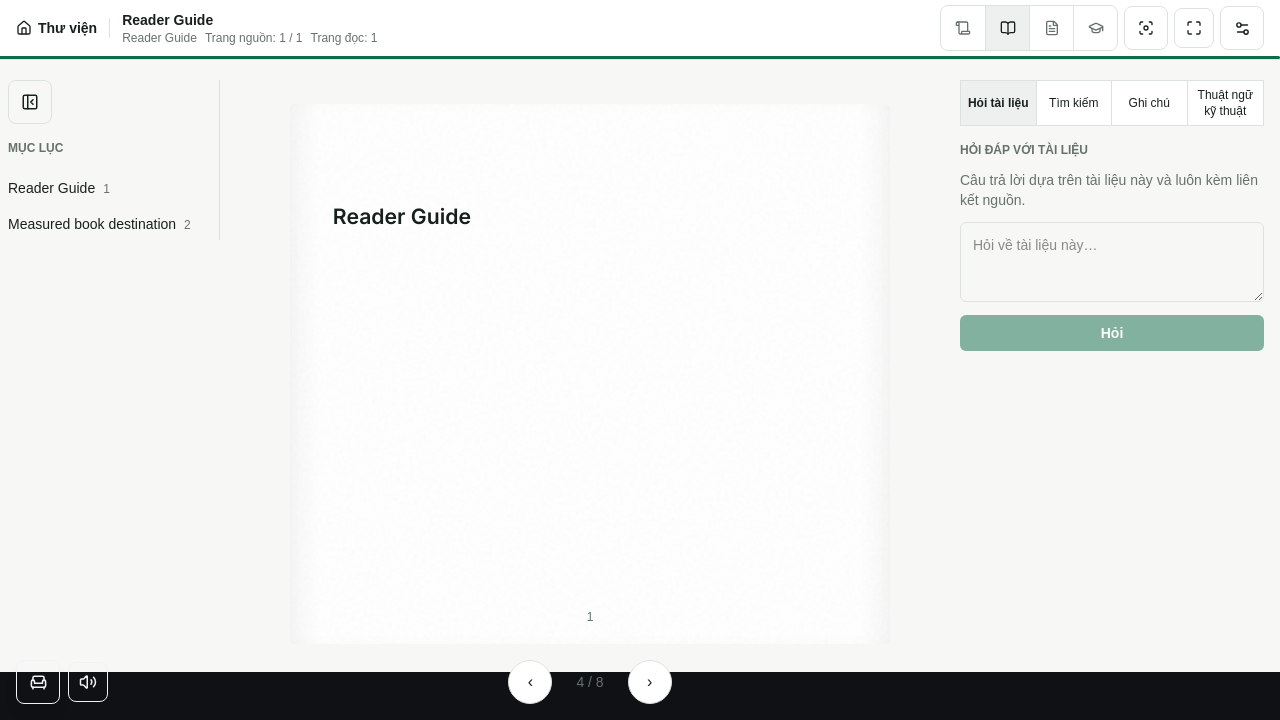
Test: DocumentReader › navigates a book TOC target to its measured page
Expected: the element with class "book-page" is shown, [290, 104, 890, 644]
Click the button "Measured book destination2".
click(110, 224)  # box [8, 208, 211, 240]
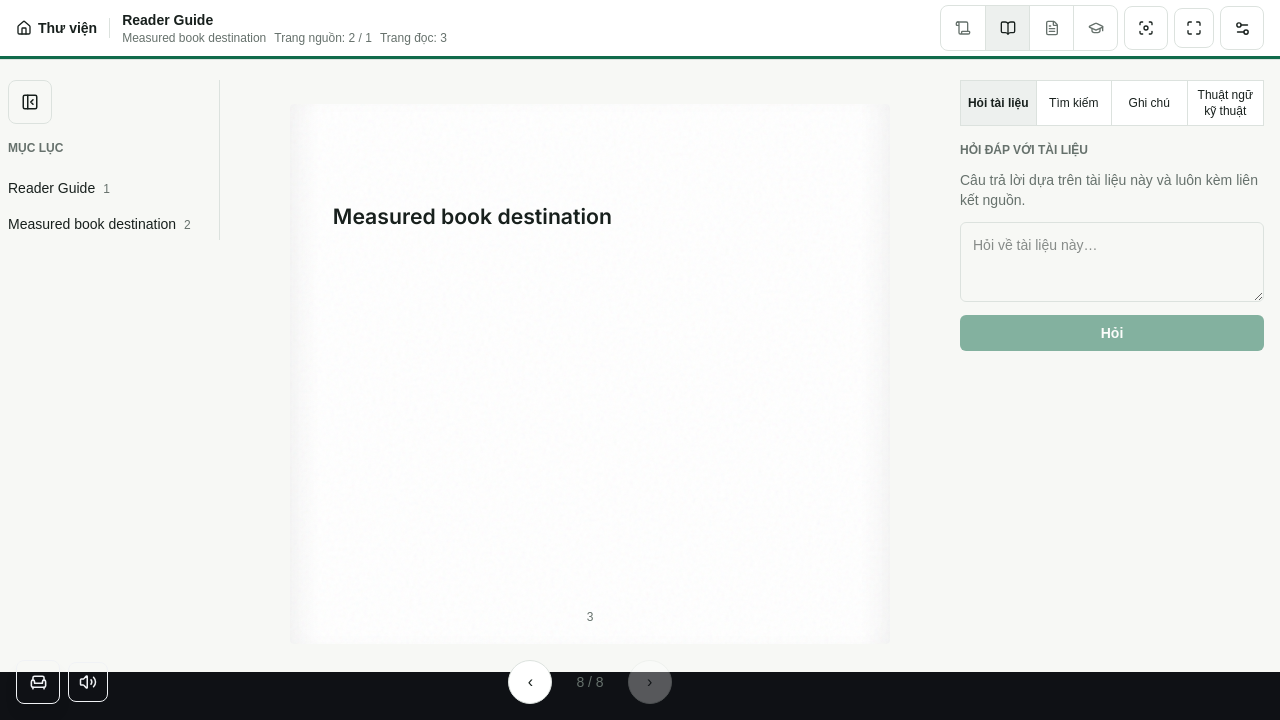
Expected: the heading "Measured book destination" is shown, [333, 204, 612, 229]
